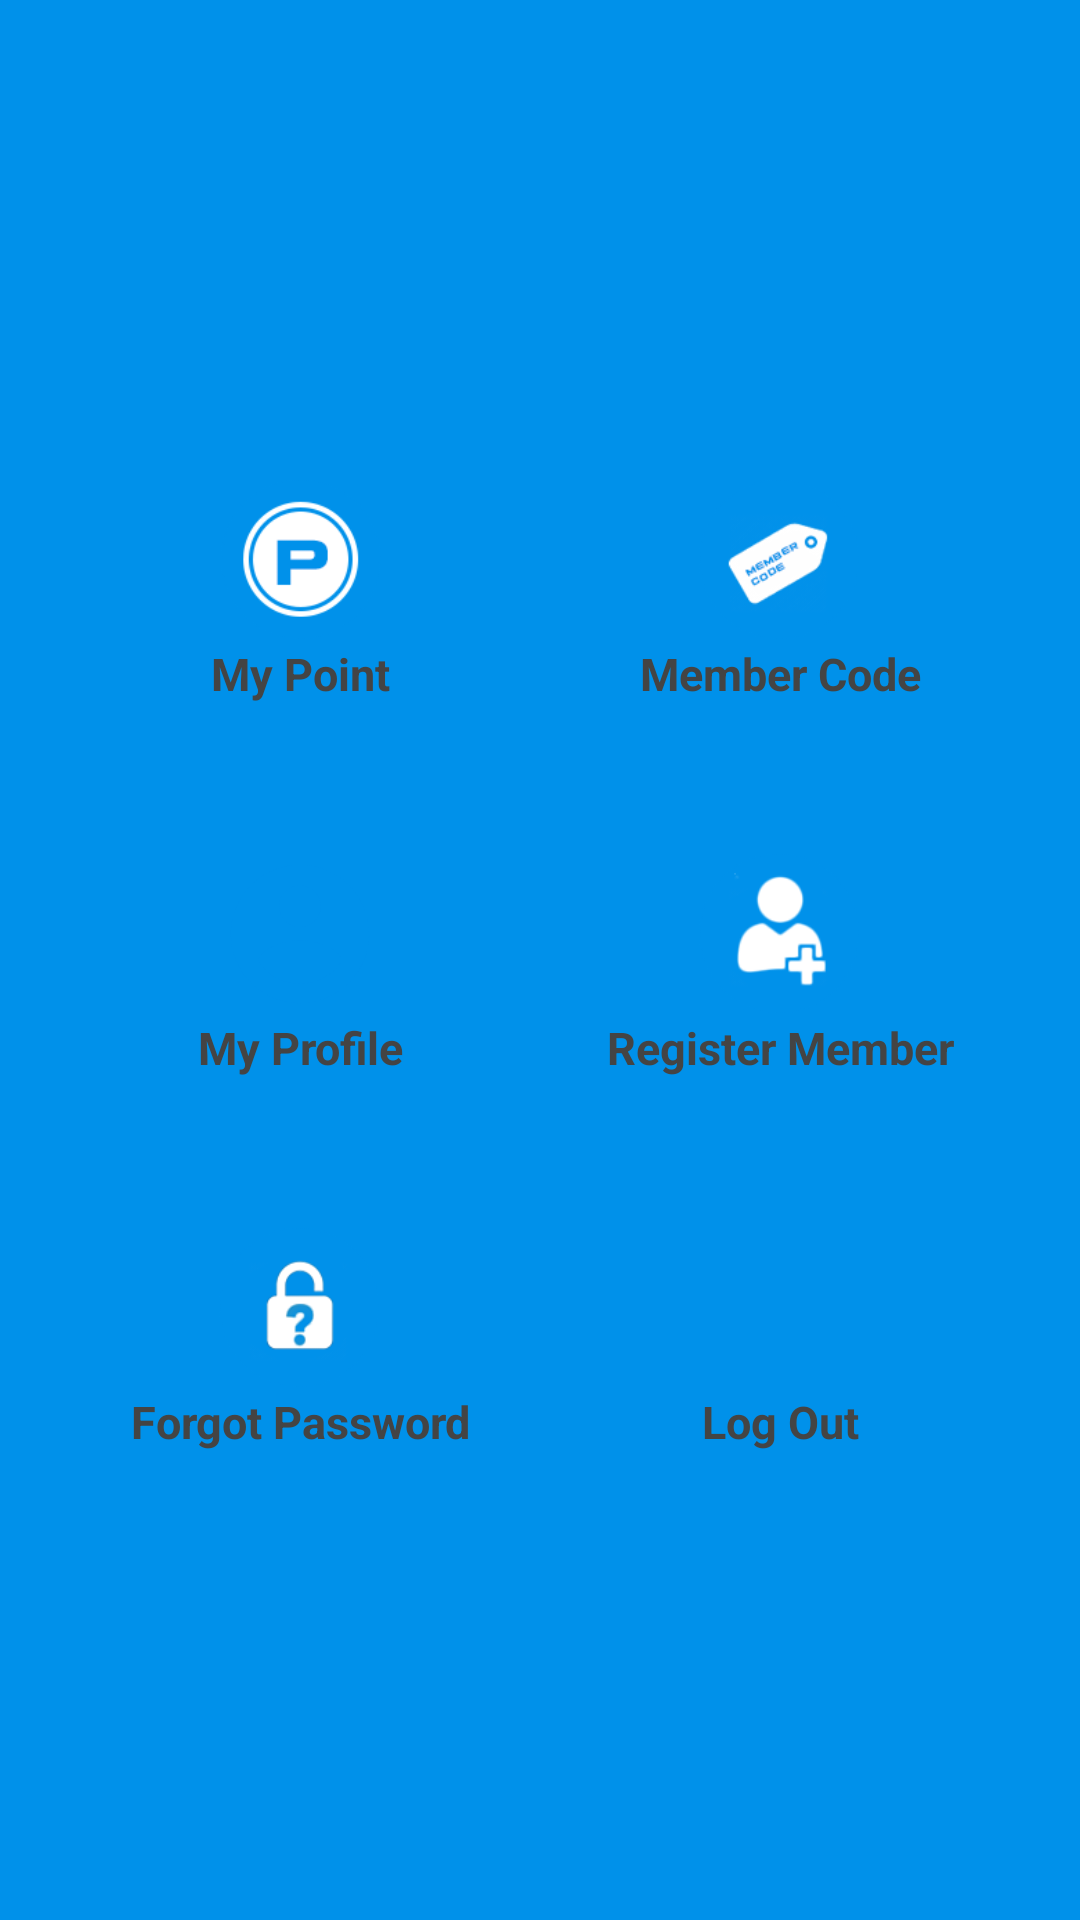

Icon click points for this 1080 x 1920 phone screenshot, format point (x, y):
person add: point (780, 929)
